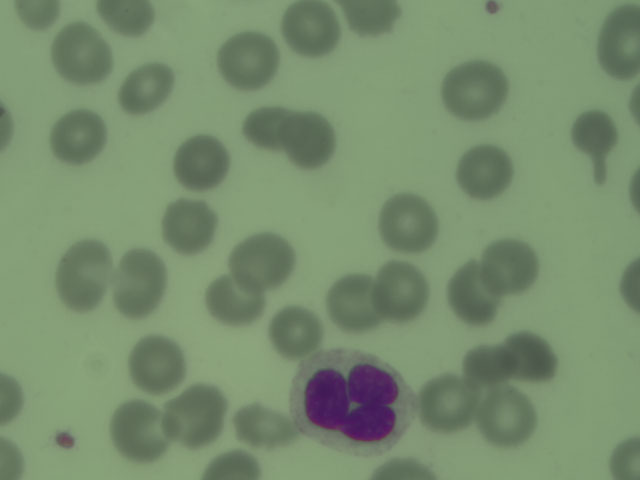Platelets: (49, 427, 82, 458), (482, 1, 505, 19)
RBC: (54, 240, 113, 311), (114, 250, 162, 316), (596, 8, 640, 80), (455, 146, 511, 200), (448, 61, 504, 115), (459, 341, 515, 395), (479, 394, 535, 448), (418, 378, 474, 432), (506, 329, 562, 383), (569, 110, 625, 164), (481, 240, 537, 294), (445, 268, 501, 322), (234, 396, 290, 450), (375, 260, 431, 314), (324, 277, 380, 331), (381, 191, 437, 245), (110, 404, 166, 458), (165, 387, 221, 441), (131, 338, 187, 392), (266, 304, 322, 358), (211, 273, 267, 327), (233, 229, 289, 283), (161, 200, 217, 254), (175, 135, 231, 189), (237, 101, 293, 155), (281, 110, 337, 164), (282, 1, 338, 55), (220, 34, 276, 88), (51, 110, 107, 164), (54, 26, 110, 80), (122, 60, 172, 115), (93, 1, 165, 38), (194, 443, 262, 479), (342, 1, 403, 37), (8, 1, 62, 33), (1, 370, 27, 431), (613, 260, 640, 318), (605, 437, 640, 479)
WBC: (294, 350, 414, 456)
